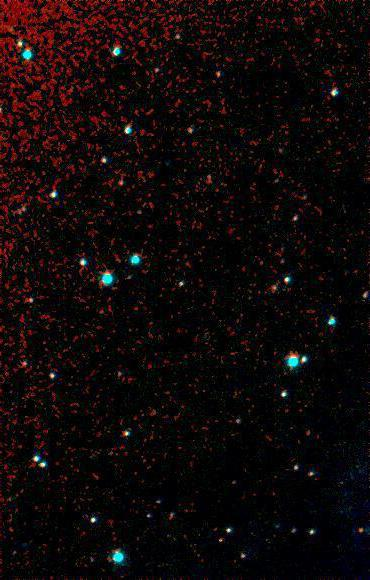star: (348, 517, 370, 547)
